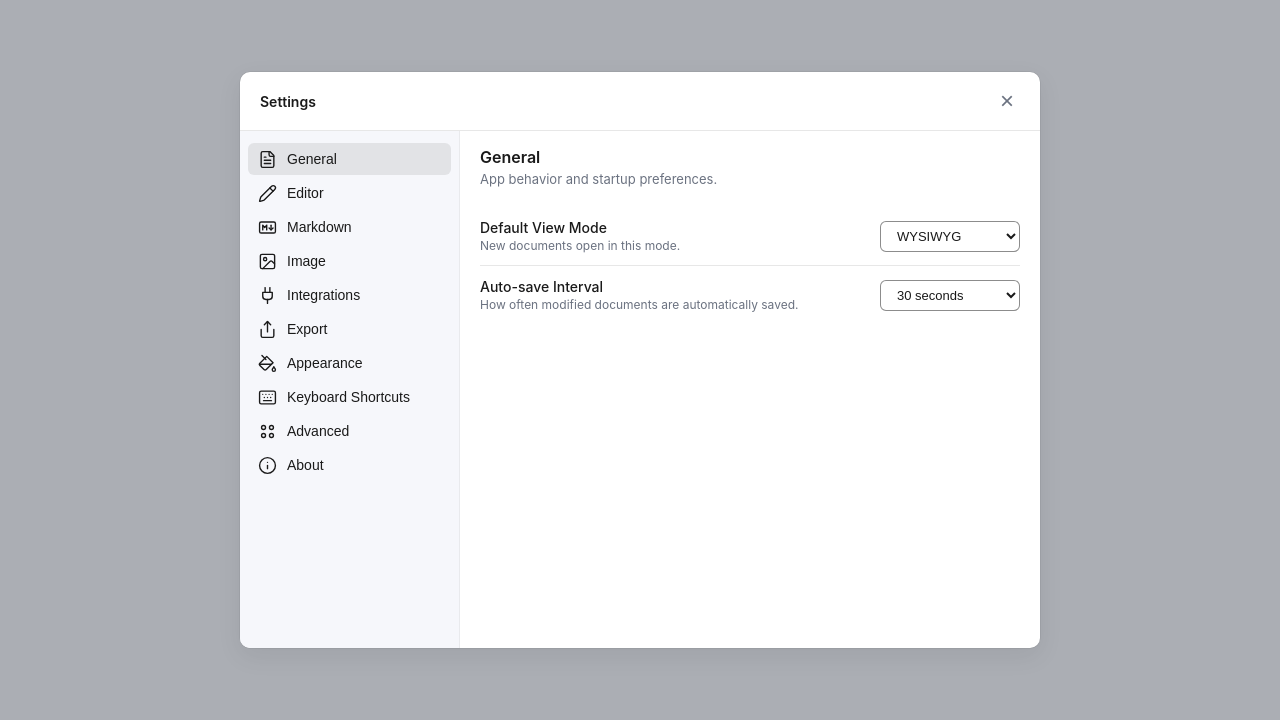
Test: WI-10 the server toggle goes through mcp_set_server_enabled › T-2 a bind failure keeps the toggle on and shows Failed plus the saved-on note, with no toast
Click the button "Integrations" at (350, 295), box [248, 279, 451, 311]
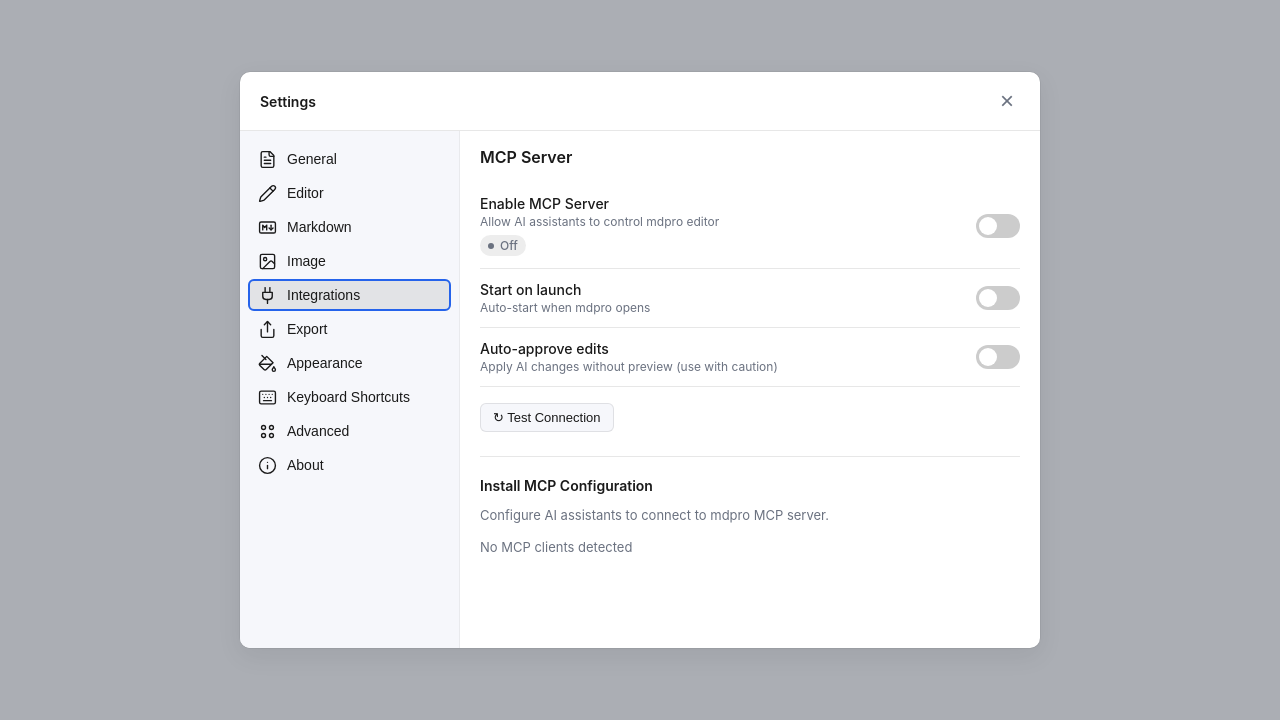
Expected: the switch labelled "Enable MCP Server" is enabled
Expected: the message "Off" is shown, [480, 235, 526, 256]
Click the switch labelled "Enable MCP Server" at (998, 226), box [976, 214, 1020, 238]
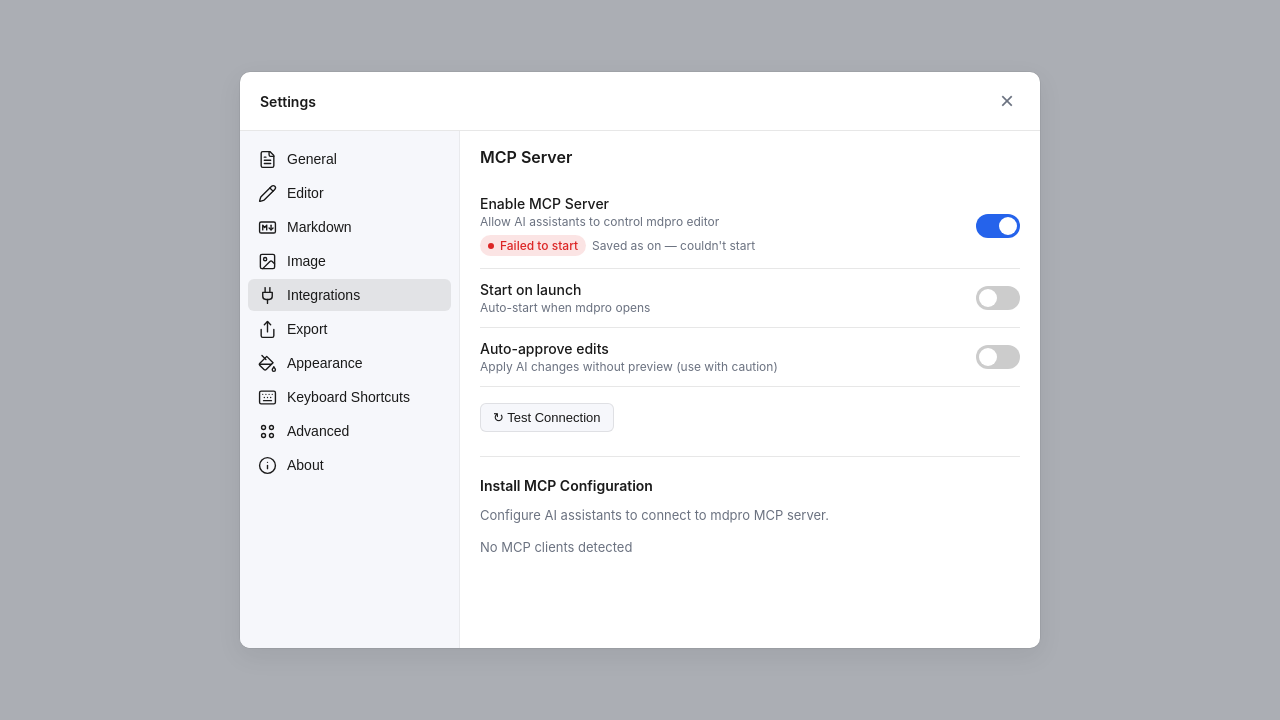
Expected: the switch labelled "Enable MCP Server" is checked, [976, 214, 1020, 238]
Expected: the switch labelled "Enable MCP Server" is enabled, [976, 214, 1020, 238]
Expected: the message shows "Failed to start", [500, 238, 578, 253]
